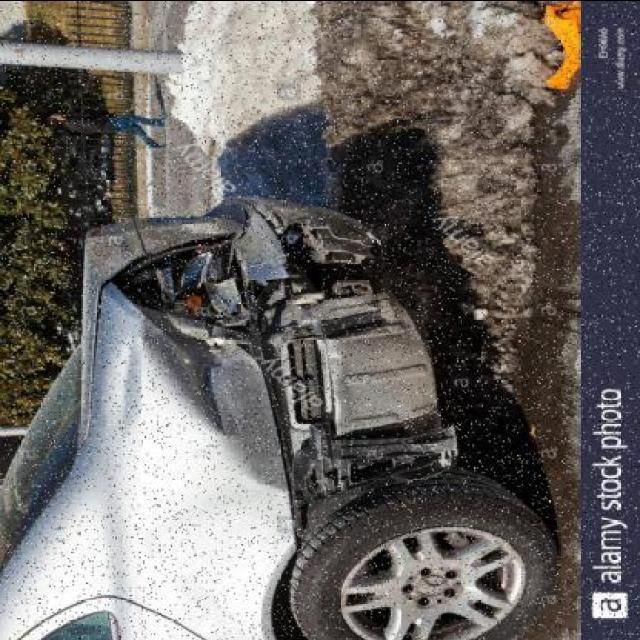quaterpanel-dent: (62, 329, 373, 640)
